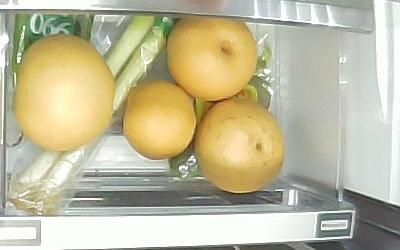pear: (12, 33, 116, 153), (194, 99, 285, 193), (166, 17, 257, 102), (122, 80, 197, 160)
